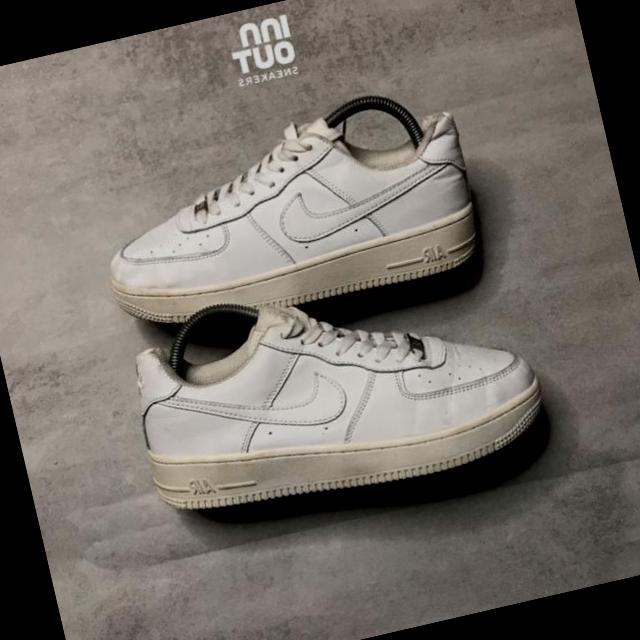nike_fake_airforce: (108, 248, 551, 540), (82, 75, 495, 349)
